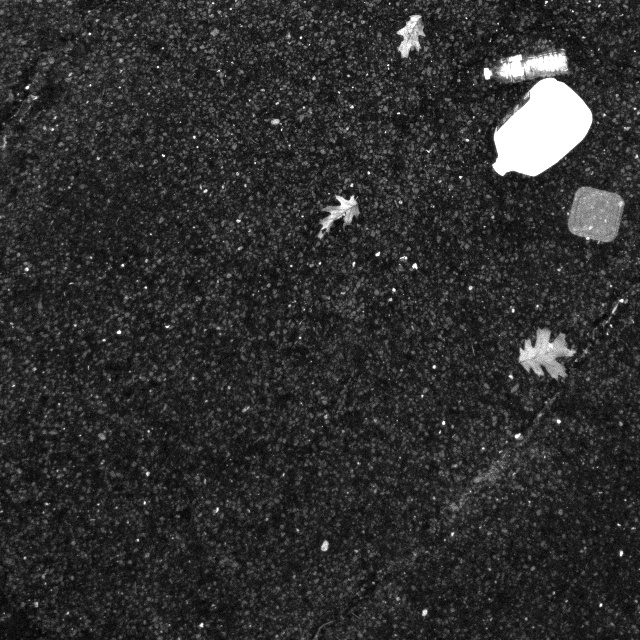bottle: (474, 47, 579, 88)
can: (471, 75, 597, 176)
container: (566, 187, 629, 247)
